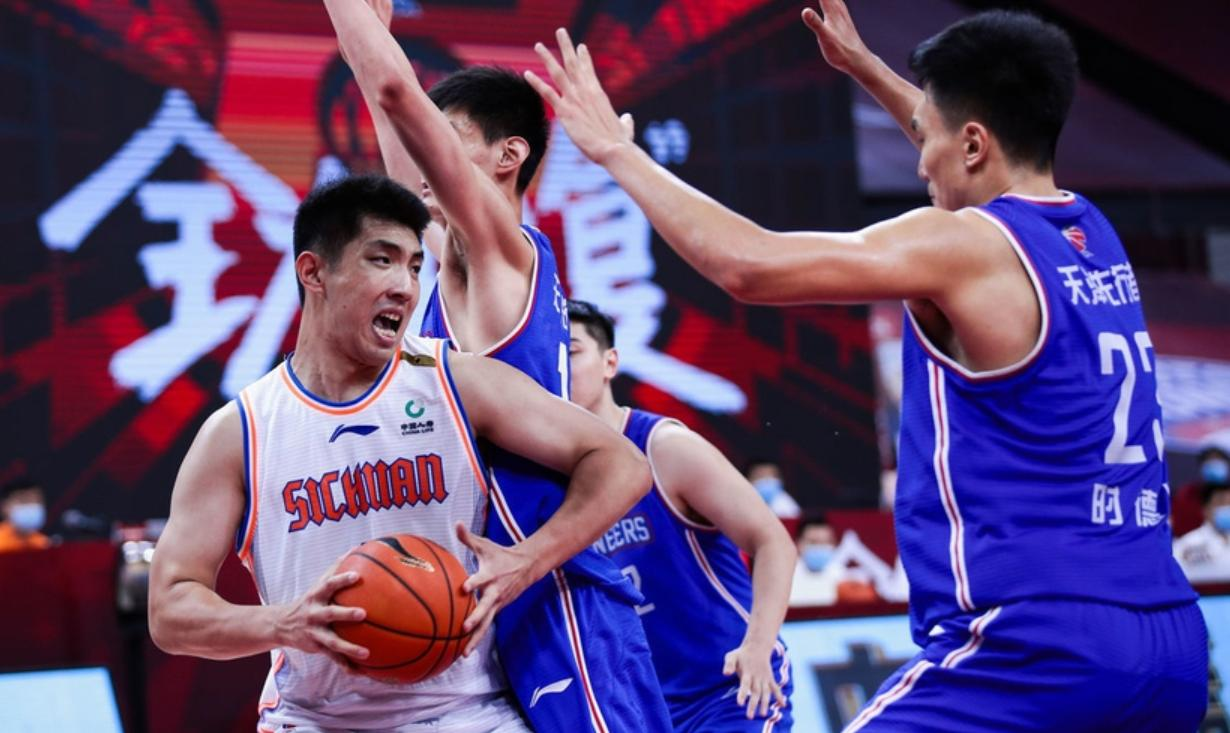ball: (329, 534, 476, 688)
